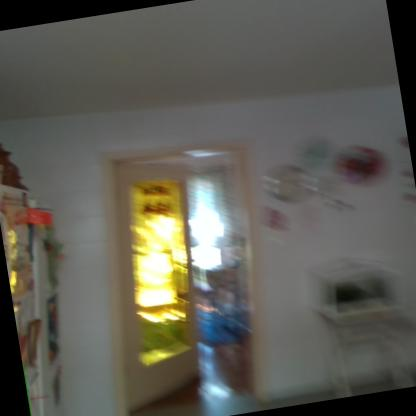semi: (79, 120, 304, 415)
